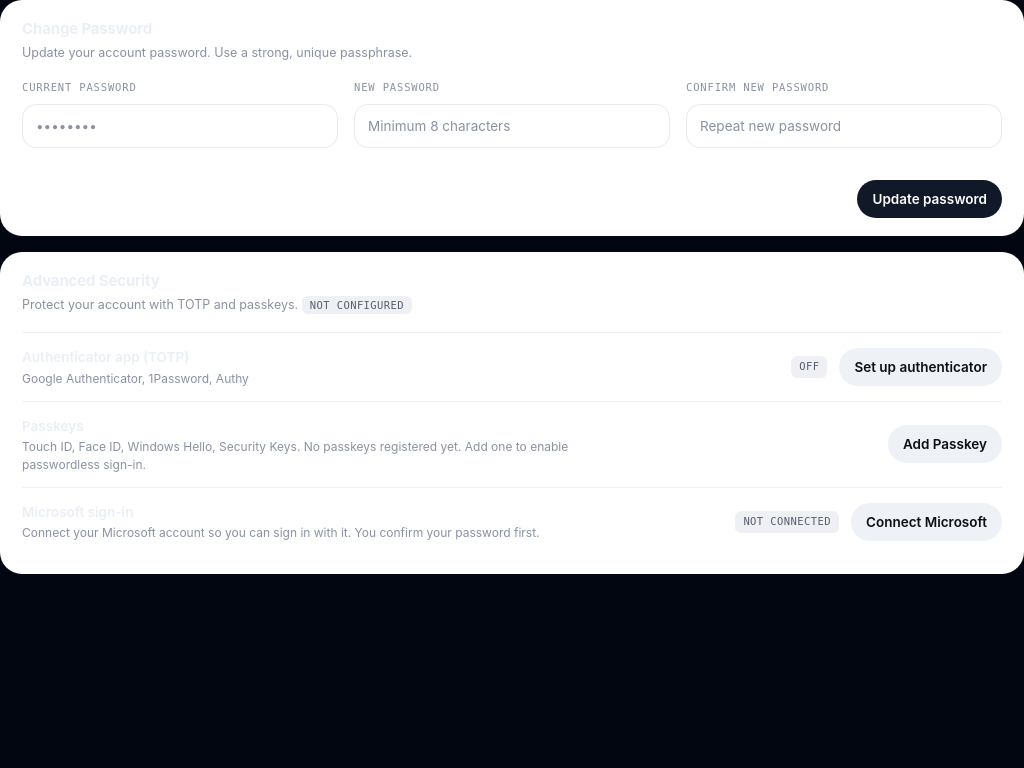
Test case: SecuritySection Microsoft linking › reports a rejected password and goes nowhere
Click the button "Connect Microsoft" at (926, 522), box [851,503,1002,541]
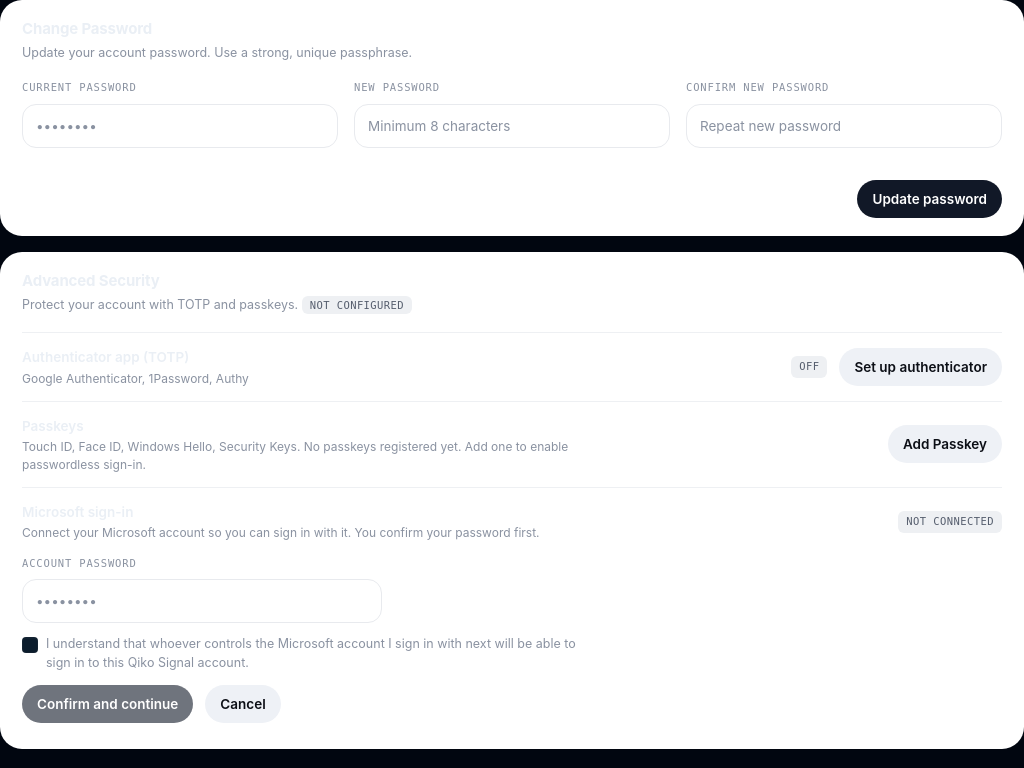
Type "wrong-password" into the password field labelled "Account password" at (202, 601), box [22,579,382,623]
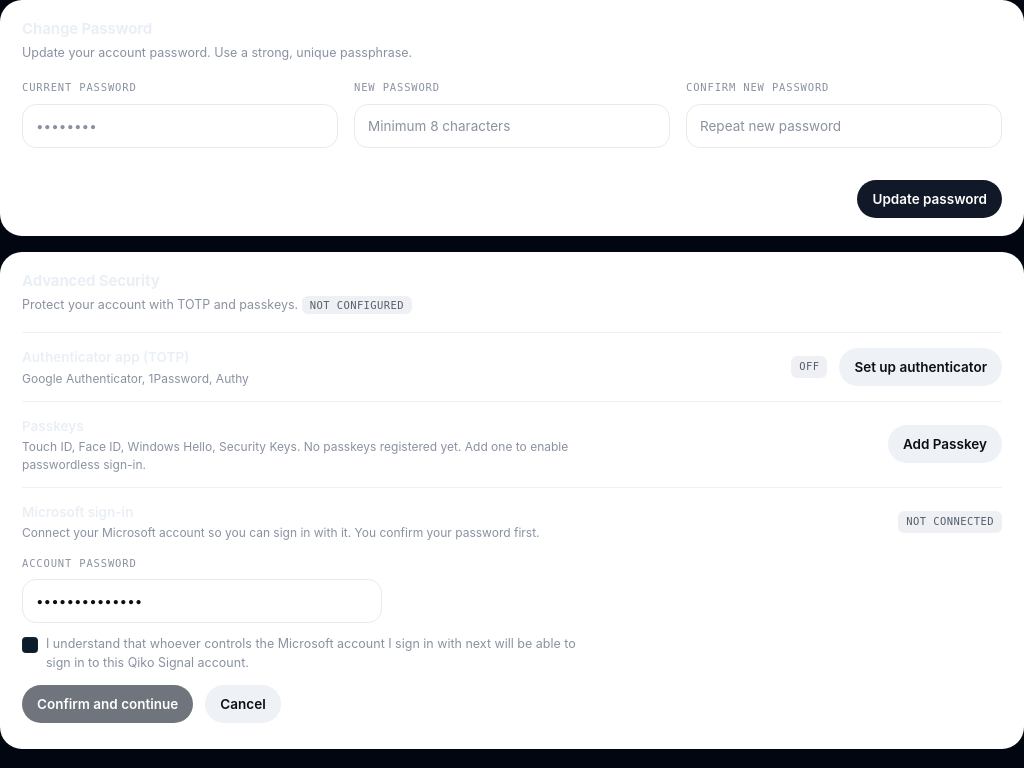
Click the checkbox at (30, 645), box [22,637,38,653]
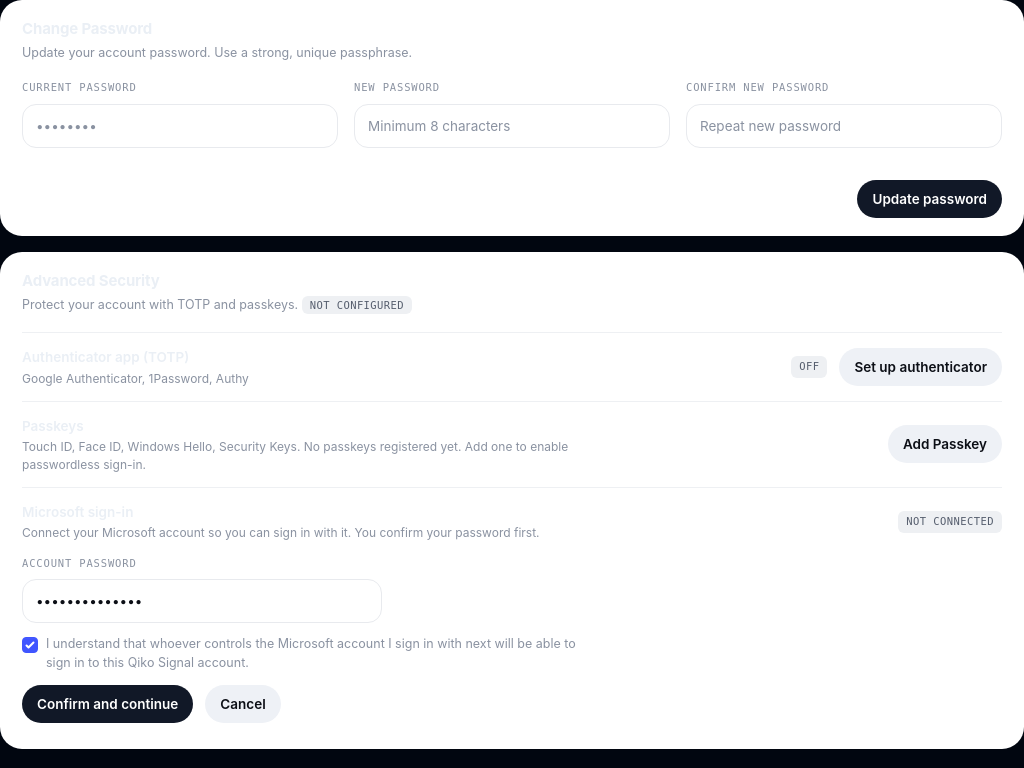
Click the button "Confirm and continue" at (108, 704), box [22,685,193,723]
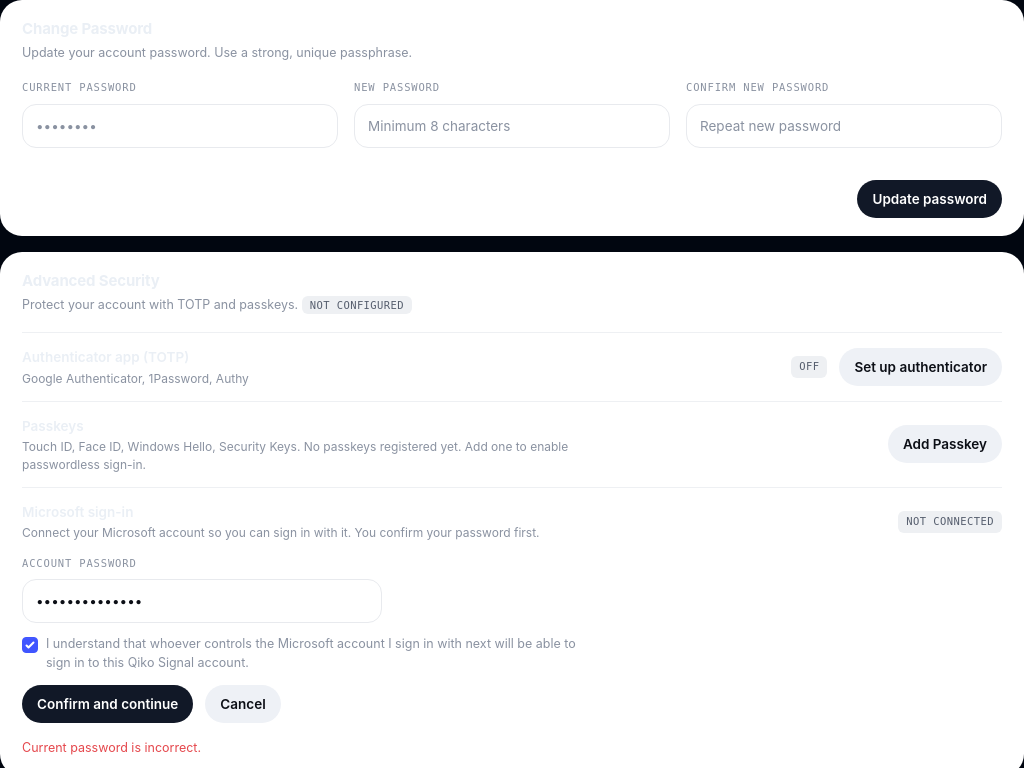
Check: the text "Current password is incorrect." is shown, box [22,740,201,755]
